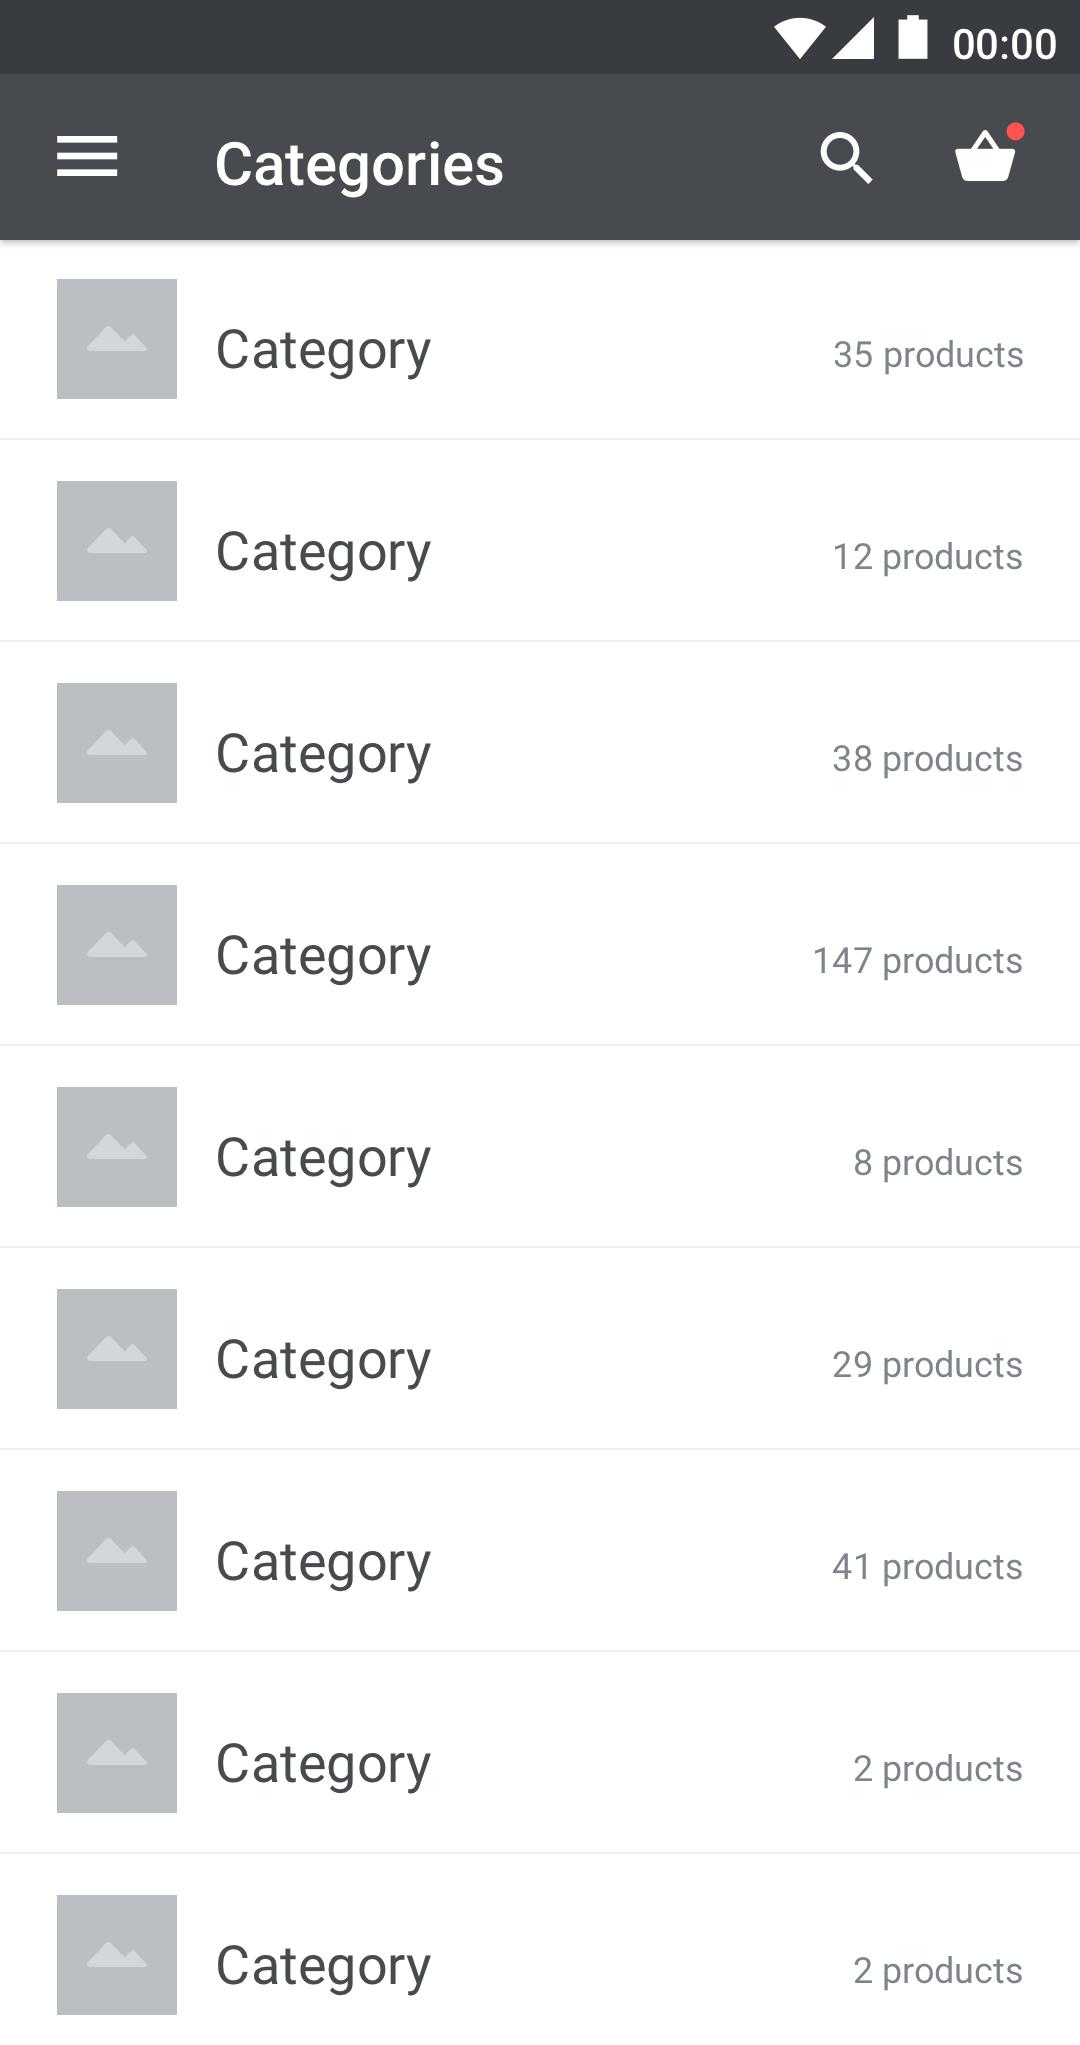Icon: (954, 120, 1026, 183), (819, 131, 875, 187), (55, 135, 120, 179)
Image: (57, 1894, 178, 2017), (57, 885, 178, 1006), (57, 1289, 178, 1411), (57, 1490, 178, 1612), (57, 1692, 178, 1814), (57, 1087, 178, 1208), (58, 280, 178, 400), (58, 683, 178, 803), (57, 481, 178, 601)
Text: (216, 139, 506, 200), (216, 1133, 433, 1189), (218, 1539, 433, 1595), (218, 530, 433, 584), (218, 933, 433, 987), (218, 1741, 433, 1795), (219, 1944, 433, 1998), (218, 329, 433, 381), (218, 732, 433, 784), (218, 1338, 433, 1390), (812, 944, 1023, 982), (833, 541, 1025, 579), (833, 743, 1025, 780), (831, 1550, 1023, 1588), (833, 1348, 1023, 1386), (833, 339, 1025, 376), (853, 1954, 1025, 1992), (853, 1753, 1025, 1789), (854, 1147, 1023, 1183)
UpperTaskBar: (1, 1, 1080, 74)
